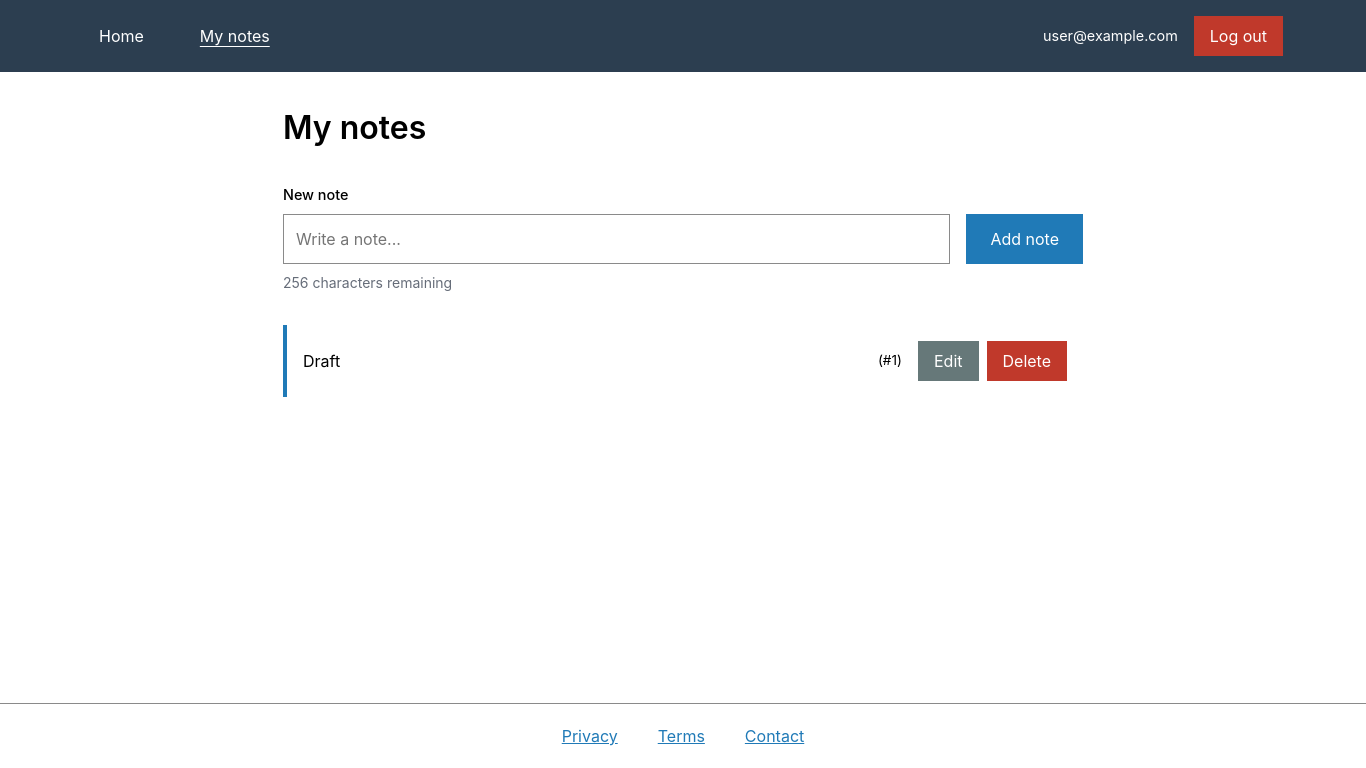
Scenario: Notes, through the whole app › edits a note, then deletes it
The width and height of the screenshot is (1366, 768).
Click the button with aria-label "Edit note #1": (948, 361) [918, 341, 978, 381]
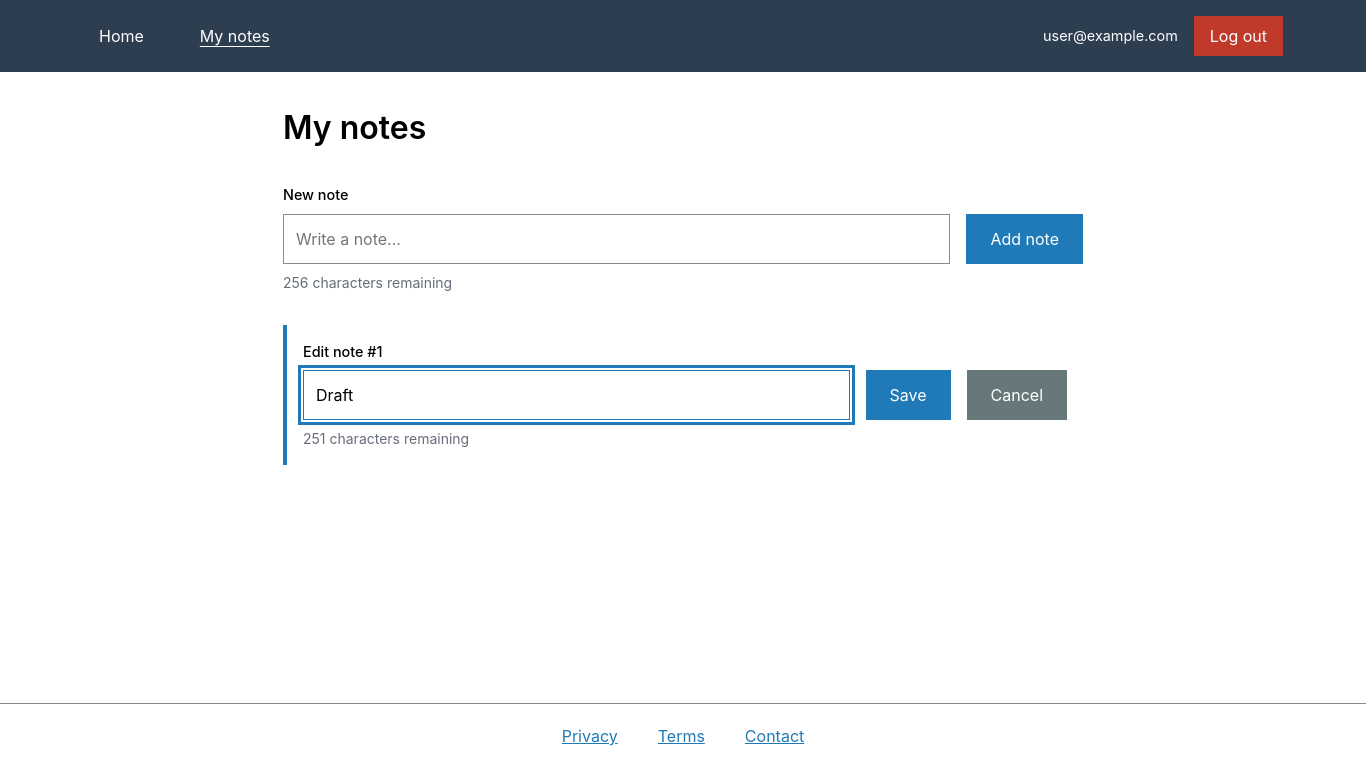
Replace the text in the field labelled "Edit note #1" with "Final": (576, 395) [303, 370, 850, 420]
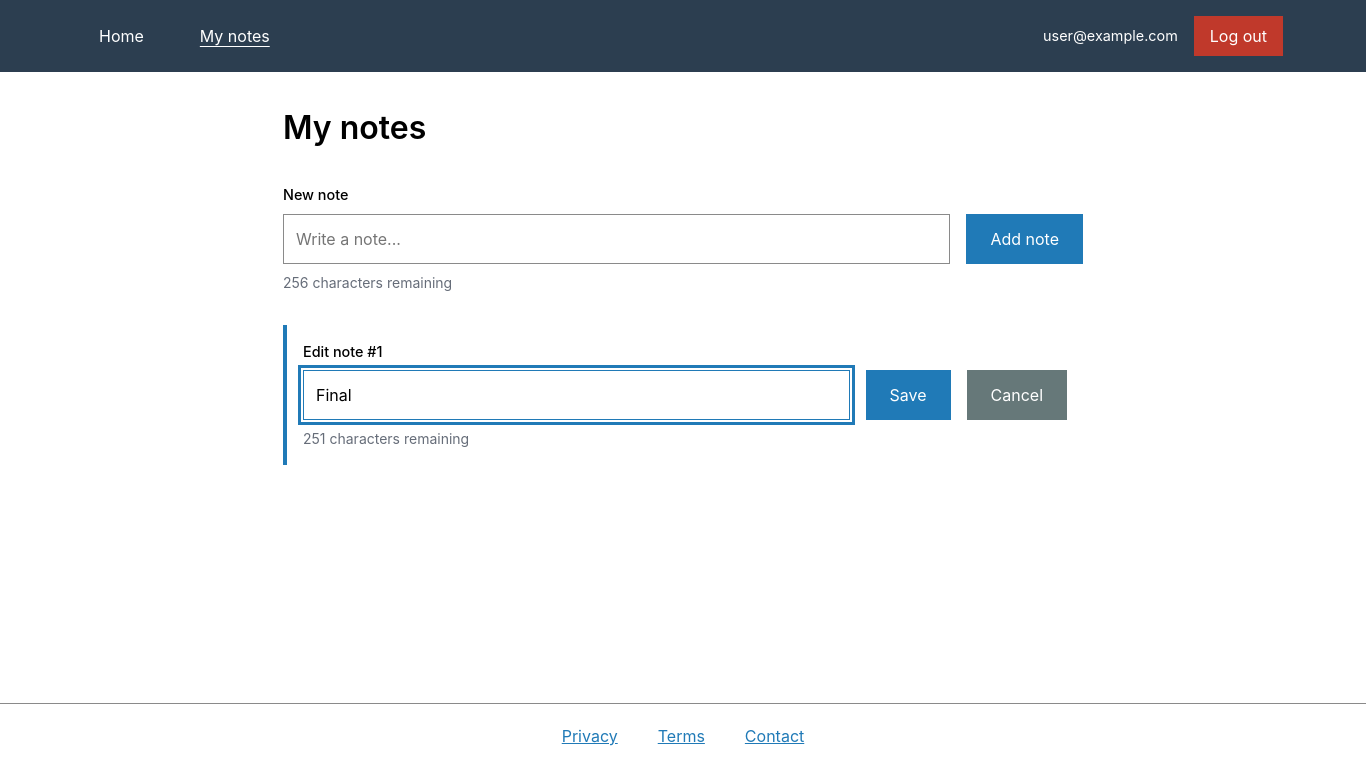
Click the button "Save": (908, 395) [866, 370, 950, 420]
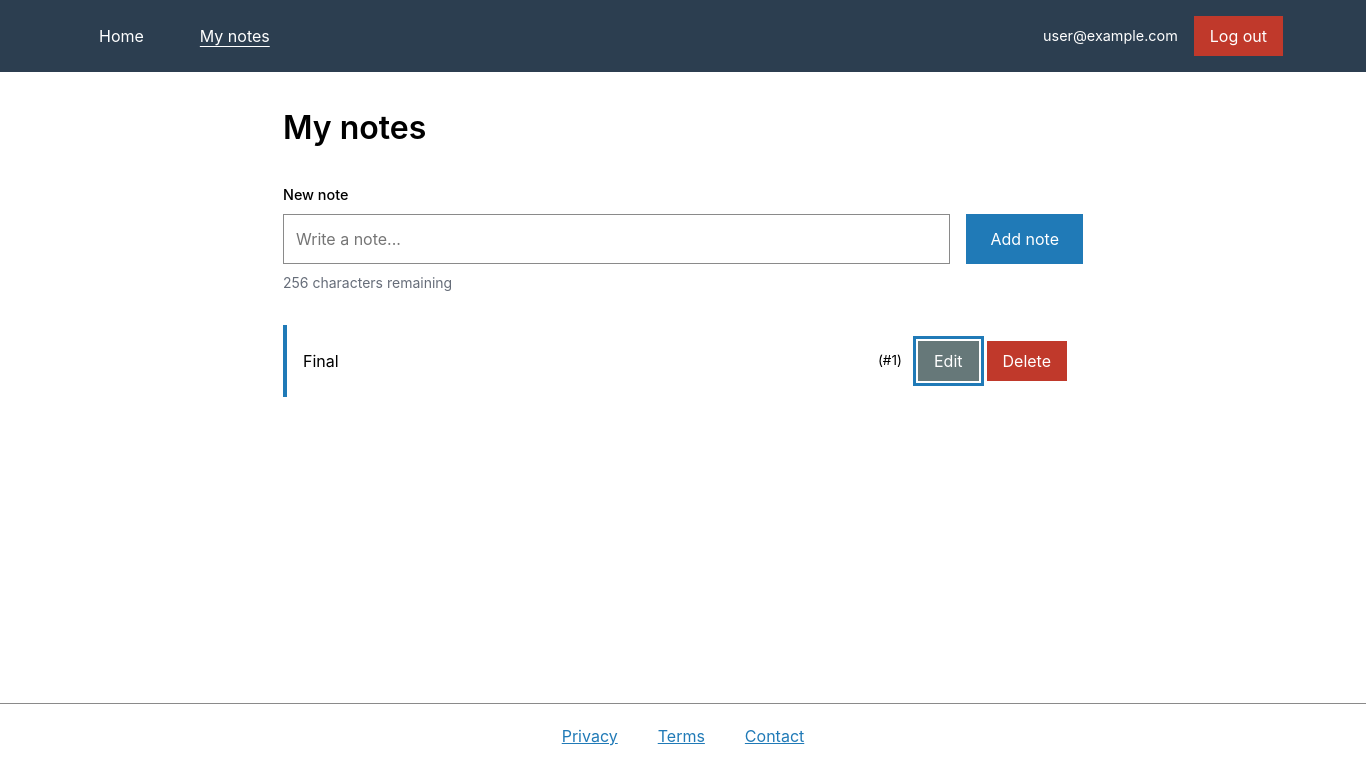
Expected: the text "Final" is shown, [303, 351, 339, 371]
Click the button with aria-label "Delete note #1": (1027, 361) [986, 341, 1067, 381]
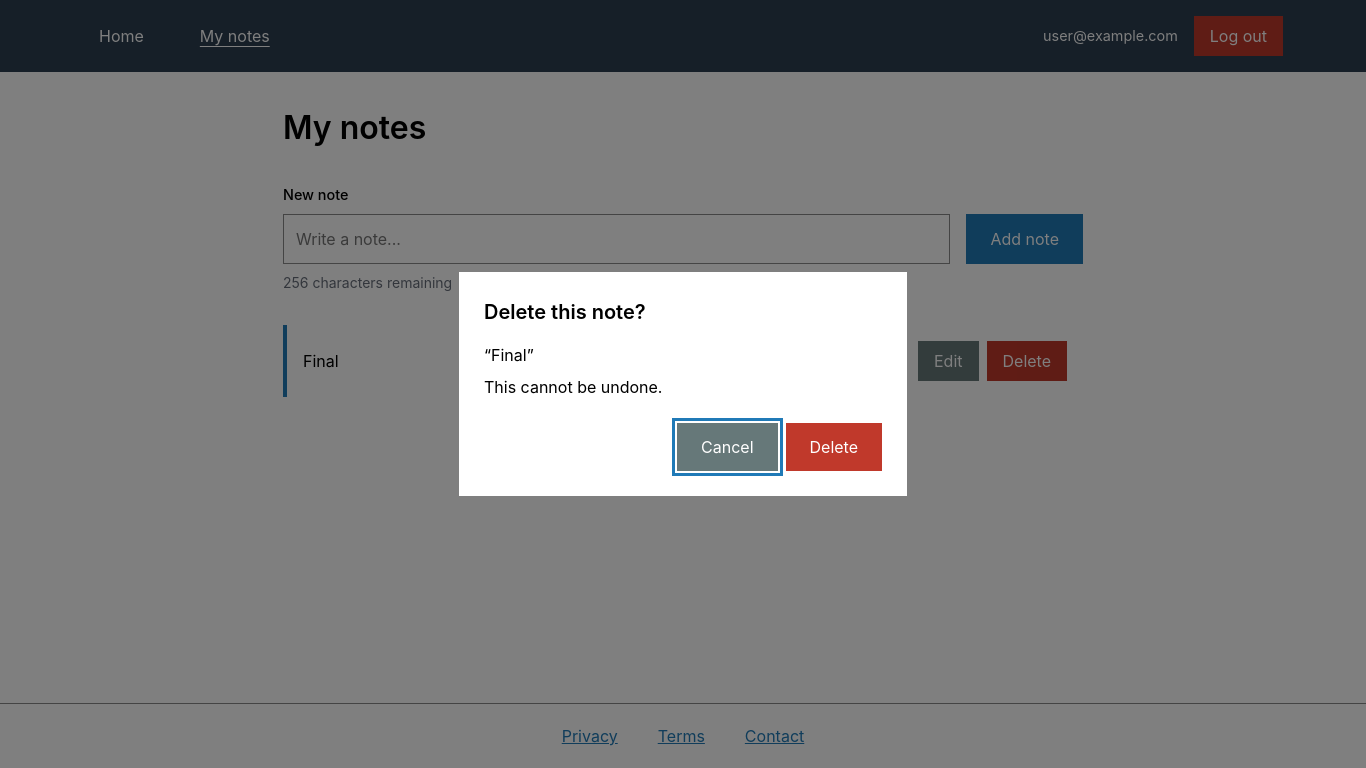
Click the button "Delete": (834, 447) [786, 423, 882, 471]
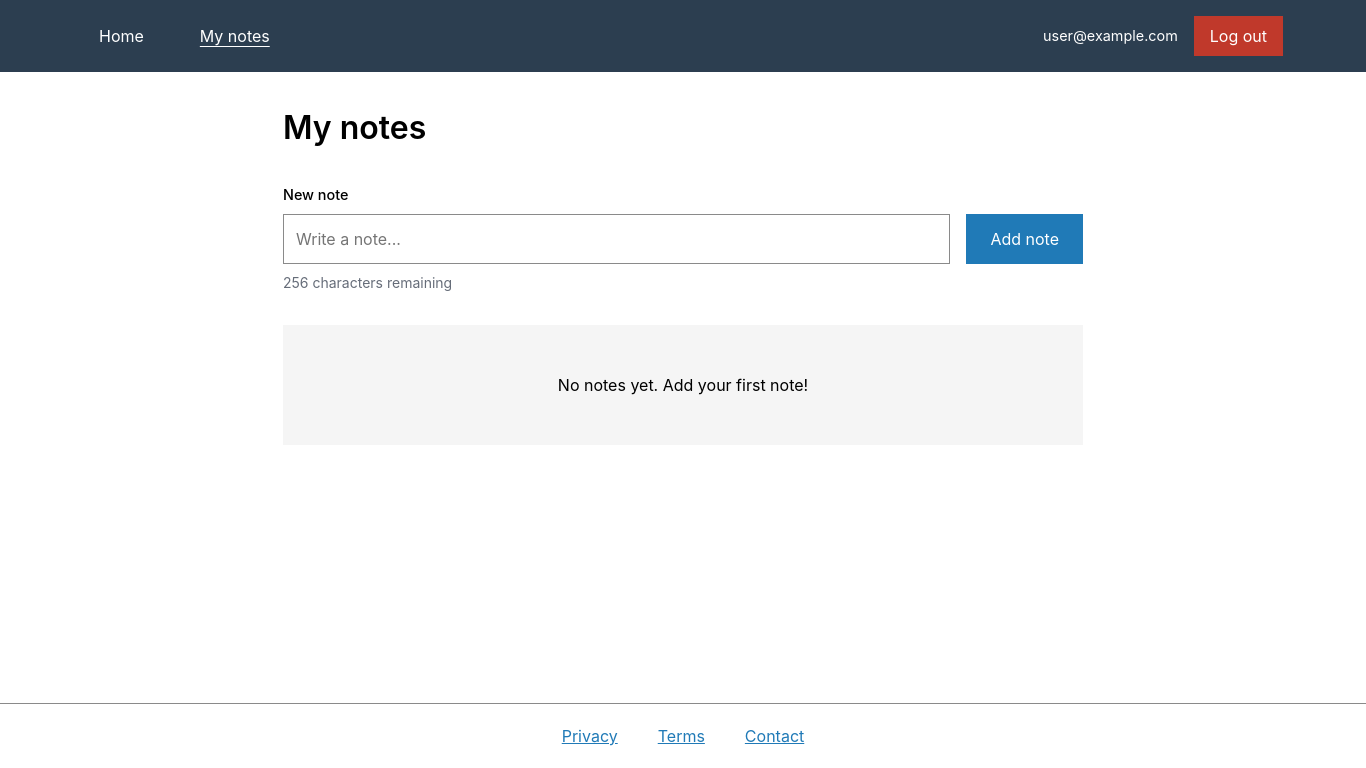
Expected: the text "No notes yet. Add your first note!" is shown, [283, 325, 1083, 445]
